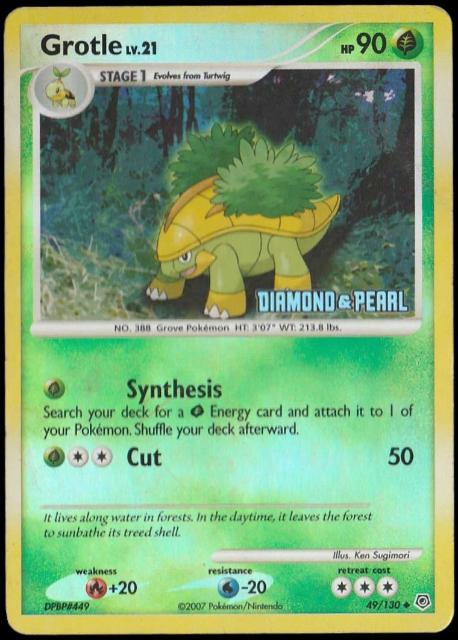Card: (1, 0, 458, 639)
Name: (37, 29, 124, 59)
